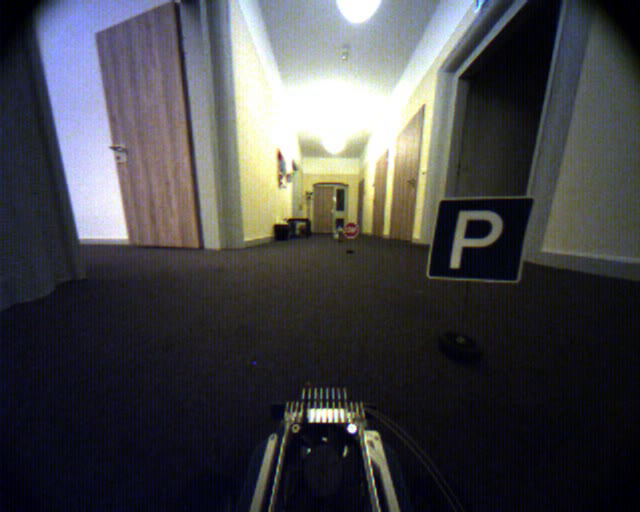sign_parking_zone: (426, 196, 535, 286)
sign_speed_limit_start: (93, 3, 202, 249)
sign_stop: (342, 223, 359, 240)
